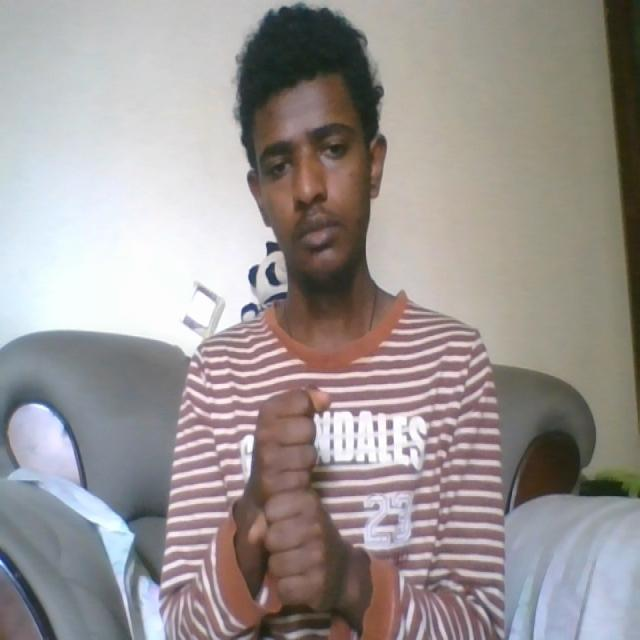meqebel: (248, 383, 333, 613)
